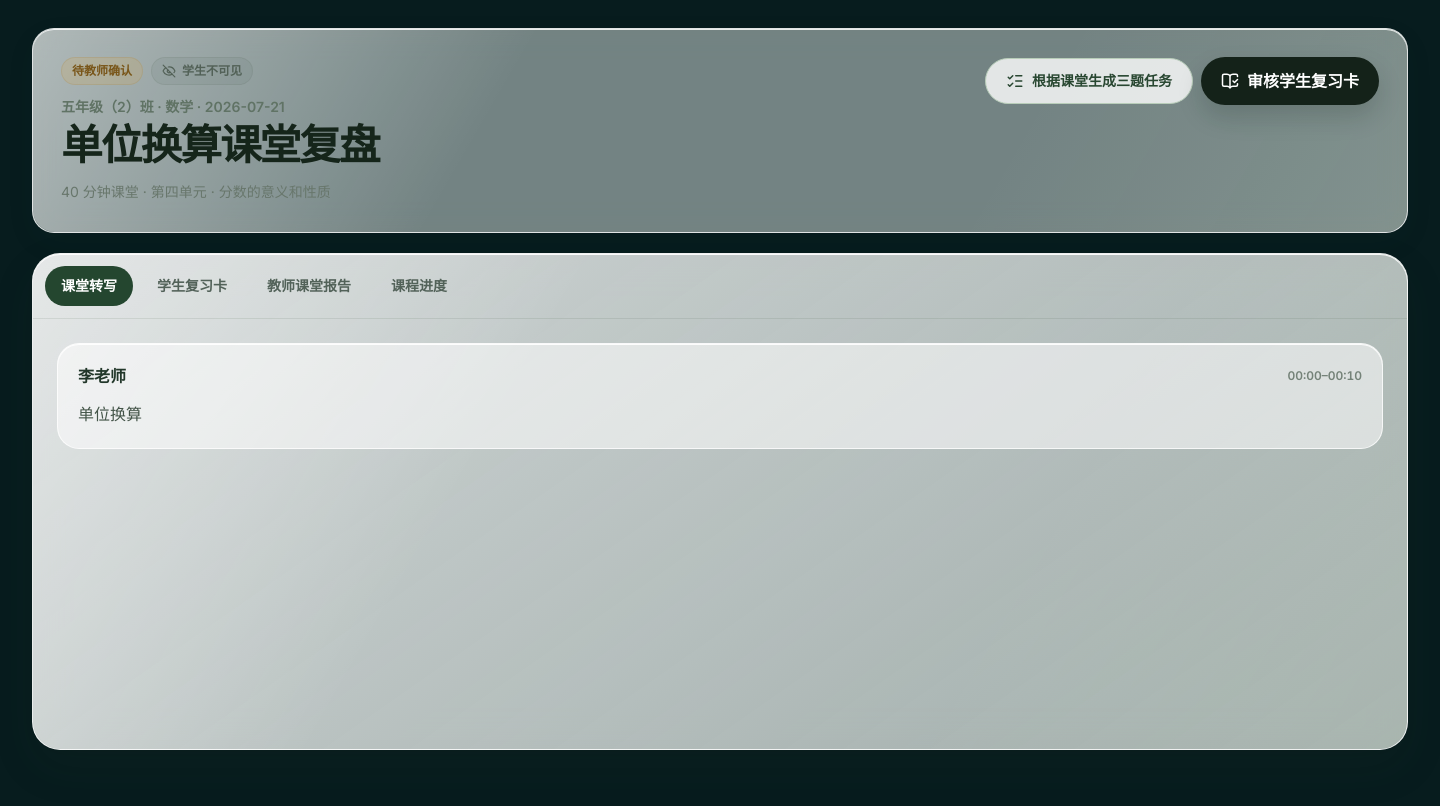
Test: LessonDetailPage › reviews and publishes a complete lesson without leaving classroom detail
This screenshot has width=1440, height=806.
Expected: the text "学生不可见" is shown, [162,64,242,78]
Click the button "审核学生复习卡" at (1290, 81), box [1201,57,1379,105]
(page scrolled)
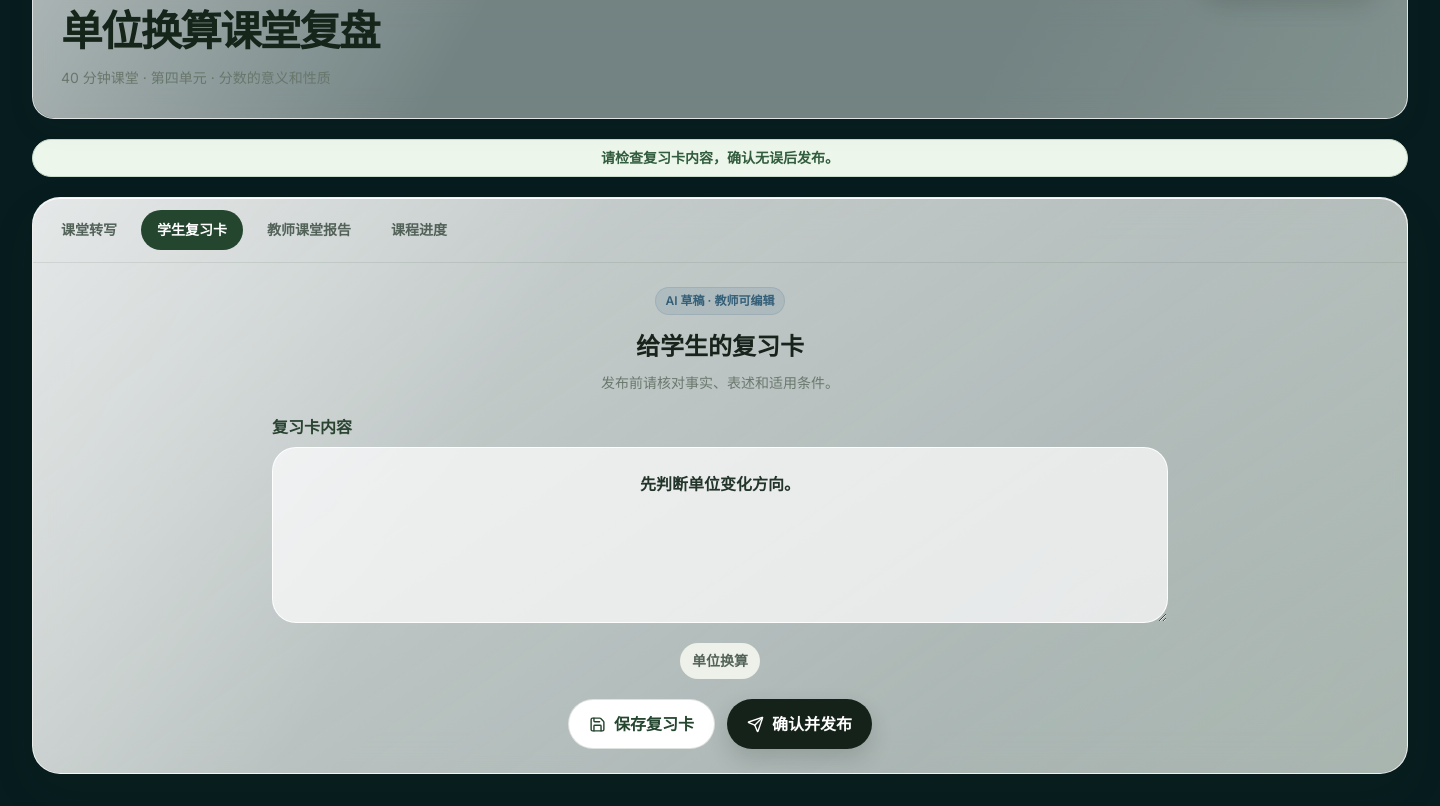
Now the tab "学生复习卡" is selected, box [141,210,243,250]
Click the button "确认并发布" at (800, 724), box [727,699,872,749]
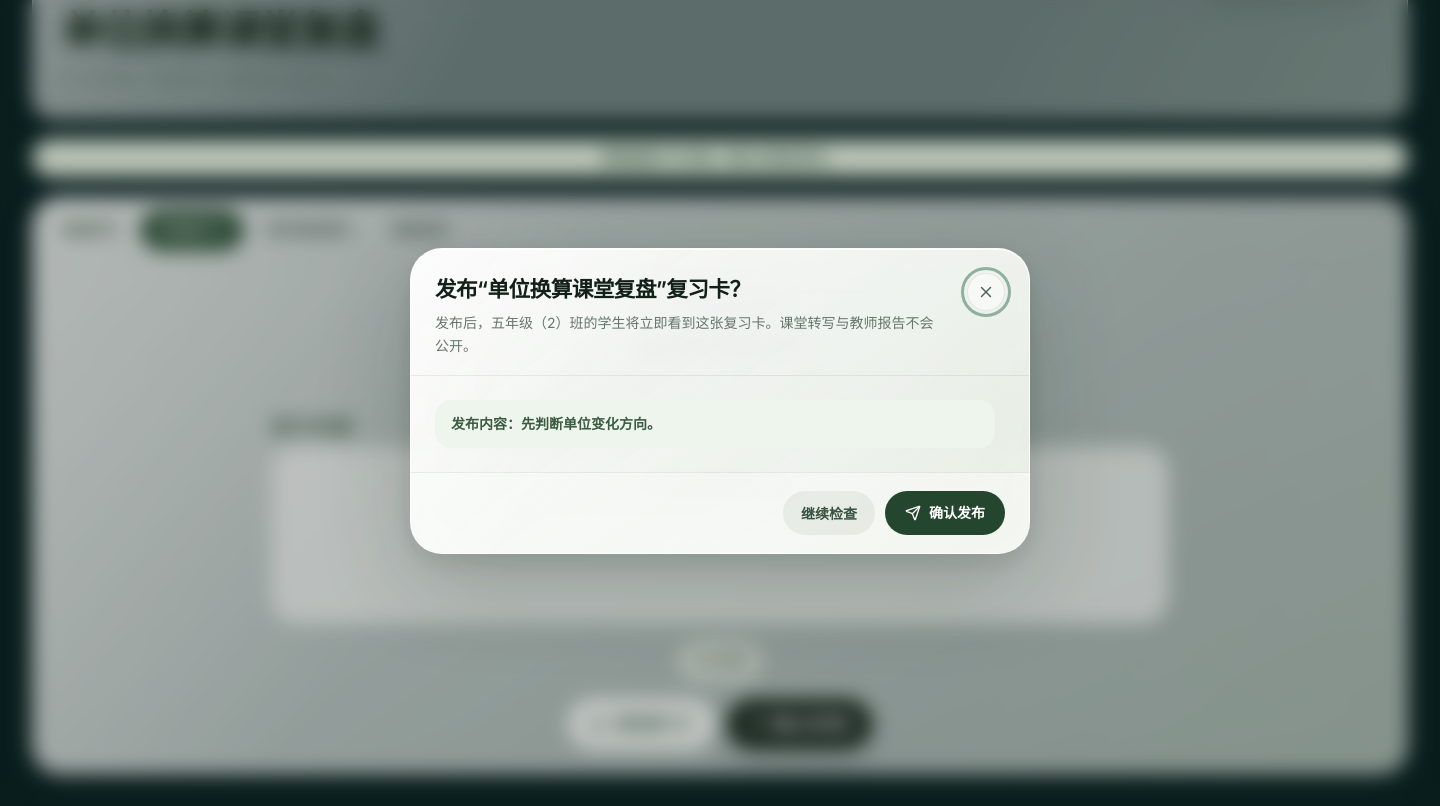
Now the text "课堂转写与教师报告不会公开" is shown, box [435,314,934,354]
Click the button "确认发布" at (945, 513), box [885,491,1005,535]
(page scrolled)
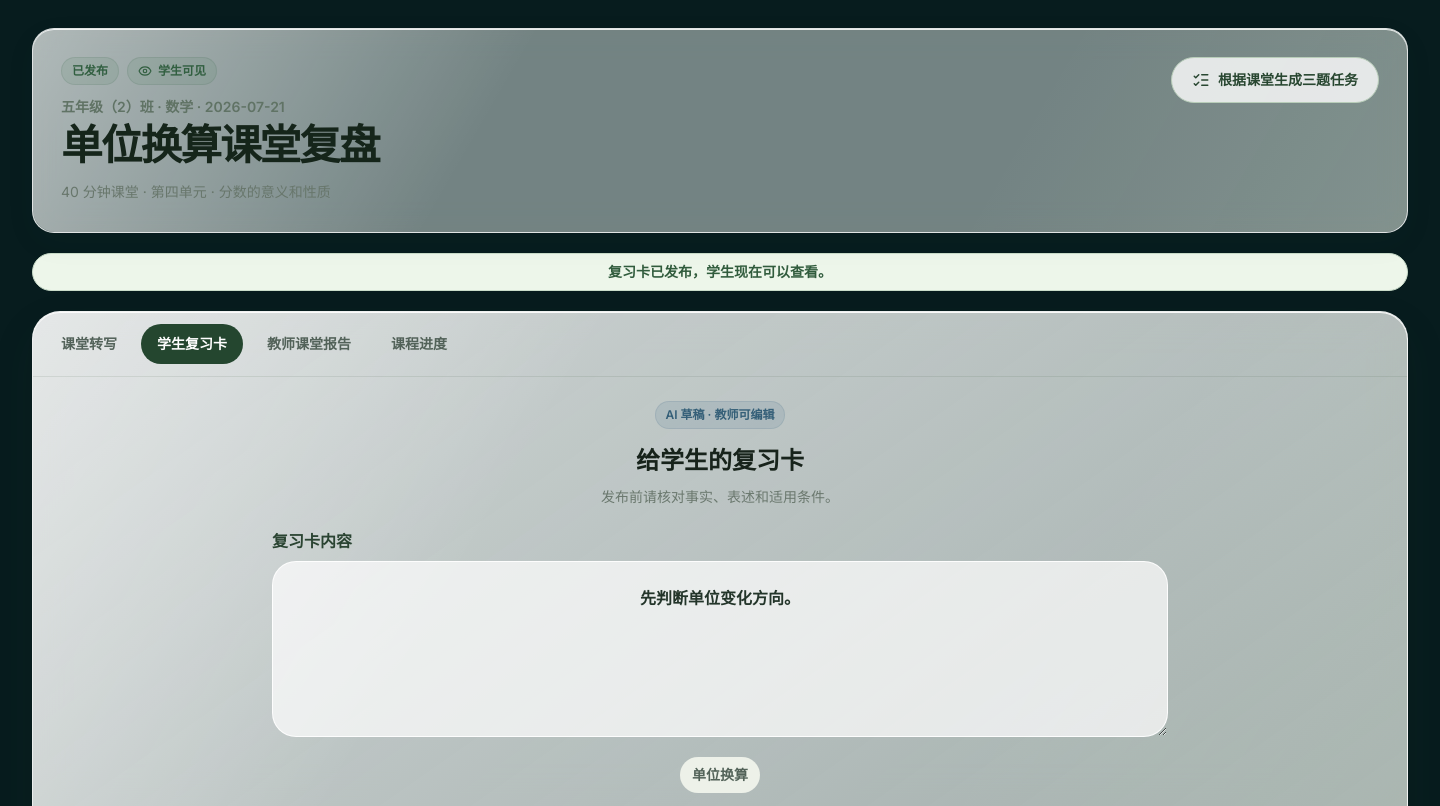
Now the text "复习卡已发布，学生现在可以查看。" is shown, box [32,253,1408,291]
Now the text "学生可见" is shown, box [138,64,206,78]
Now the button "确认并发布" is gone
